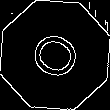O_SE: (22, 24, 88, 86)
